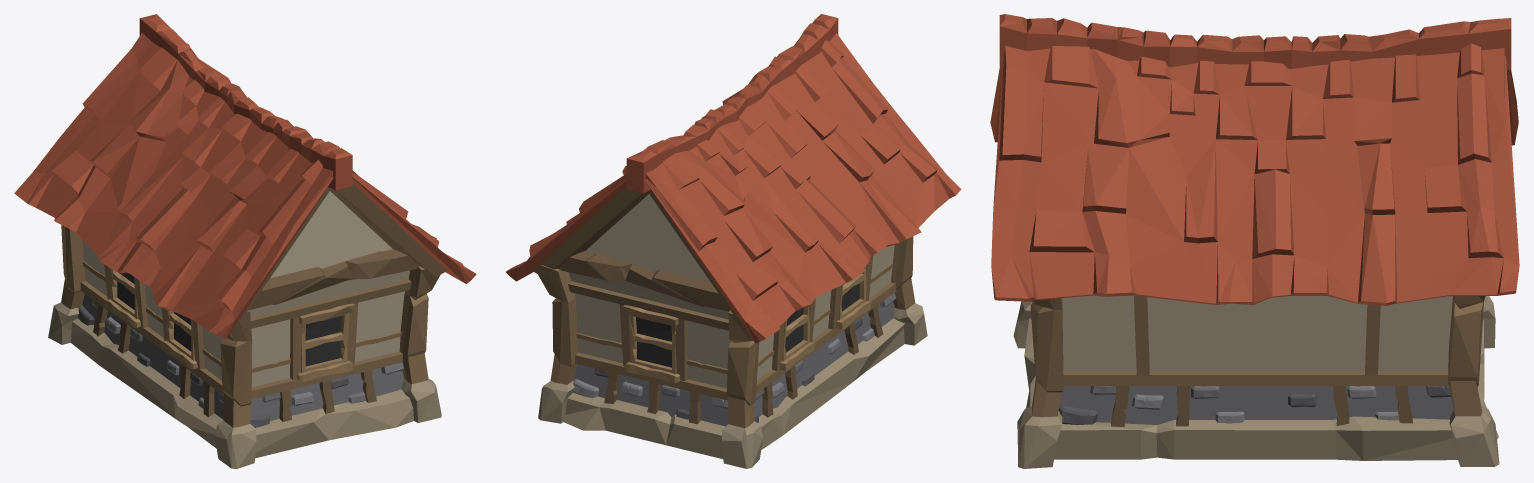
Rendered from SM_Bld_House_Room_02.gltf.
3 views of the same model, side by side, from view 1: azimuth 30°, elevation 25°; view 2: azimuth 150°, elevation 25°; view 3: azimuth 270°, elevation 25° (orthographic). The views are drawn at different scales.
Visible parts, largest first — view 1: SM_Bld_House_Room_02; view 2: SM_Bld_House_Room_02; view 3: SM_Bld_House_Room_02.
Part boxes in pixels (x1,y1,x2,y2): SM_Bld_House_Room_02: [14, 14, 476, 468]; SM_Bld_House_Room_02: [506, 14, 961, 468]; SM_Bld_House_Room_02: [990, 14, 1519, 468].
Bounding box in the file's own units: 5.04 × 5.09 × 6.38.
1 material, 1 textured.
